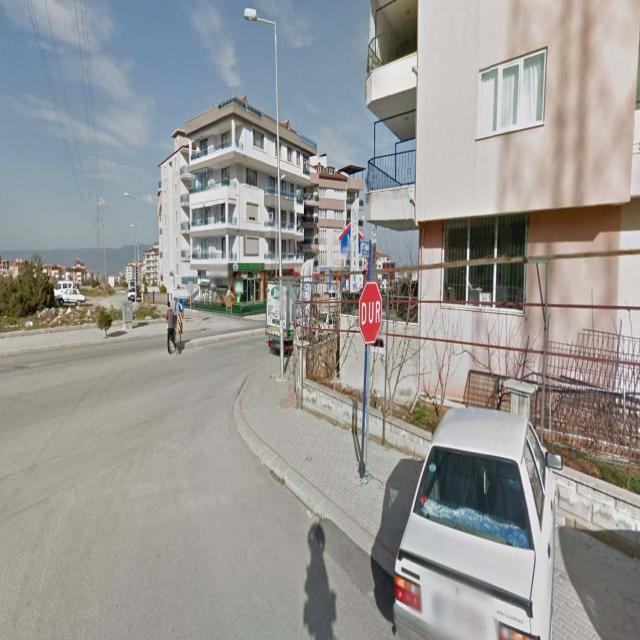dur: (360, 282, 380, 343)
